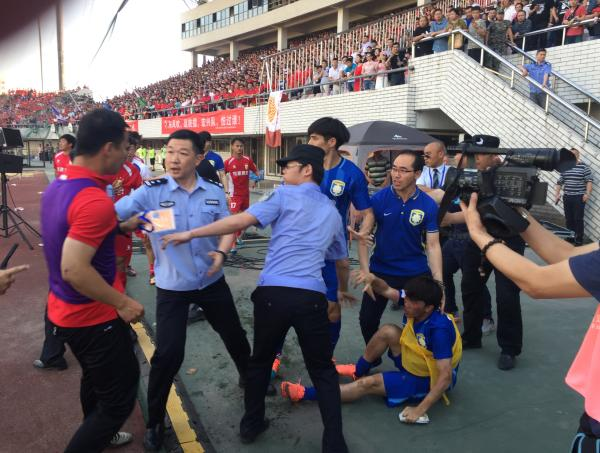10+: (2, 2, 599, 453)
down: (281, 275, 462, 407)
